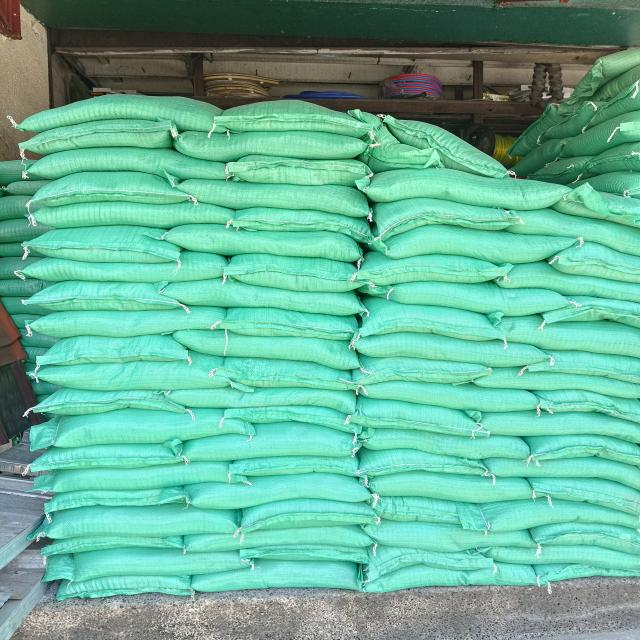Bistay sand: (364, 173, 569, 209), (29, 412, 256, 440), (368, 234, 567, 263), (184, 426, 357, 459), (23, 95, 226, 123), (184, 282, 383, 310), (230, 254, 362, 296), (23, 258, 224, 285), (186, 183, 372, 212), (381, 283, 569, 311), (47, 201, 228, 230), (42, 278, 182, 315), (358, 339, 549, 366), (39, 465, 234, 491), (48, 556, 258, 580), (167, 230, 368, 255), (36, 148, 215, 175), (485, 410, 640, 441), (34, 175, 187, 206), (366, 203, 512, 235), (360, 384, 539, 410), (187, 134, 361, 160), (40, 365, 219, 390), (30, 231, 178, 260), (38, 513, 232, 535), (18, 124, 176, 151), (194, 479, 371, 503), (183, 335, 349, 360), (222, 105, 381, 131), (501, 321, 640, 350), (221, 159, 374, 185), (463, 504, 640, 526), (354, 405, 480, 435), (508, 210, 640, 238), (367, 477, 534, 499), (228, 210, 377, 234), (364, 433, 529, 454), (42, 311, 224, 330), (34, 342, 190, 364), (351, 360, 493, 384), (365, 258, 505, 282), (375, 527, 534, 548), (183, 388, 358, 407), (196, 570, 359, 590), (37, 392, 184, 414), (367, 313, 505, 336), (547, 292, 640, 326), (508, 266, 634, 291), (32, 444, 184, 464), (59, 575, 200, 596), (492, 462, 640, 482), (229, 364, 349, 388), (239, 505, 376, 526), (492, 548, 640, 567), (33, 537, 186, 555), (188, 534, 371, 549), (366, 455, 484, 478), (227, 315, 367, 334), (478, 374, 640, 390), (236, 458, 367, 477), (225, 410, 365, 427), (364, 551, 495, 569), (536, 480, 640, 502), (374, 498, 460, 524), (38, 493, 188, 507), (561, 247, 640, 273), (438, 131, 488, 169), (536, 353, 640, 371), (536, 527, 640, 545), (533, 440, 640, 457), (360, 572, 472, 588), (465, 562, 539, 586), (368, 142, 429, 171), (533, 563, 640, 579), (246, 548, 373, 561), (537, 394, 640, 410)
